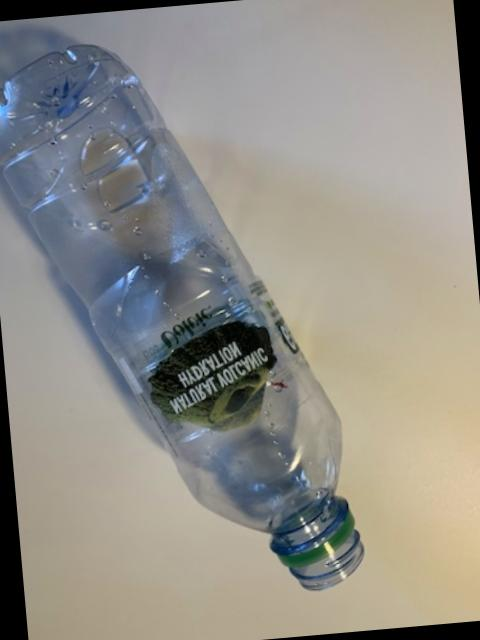plastic: (0, 46, 360, 591)
